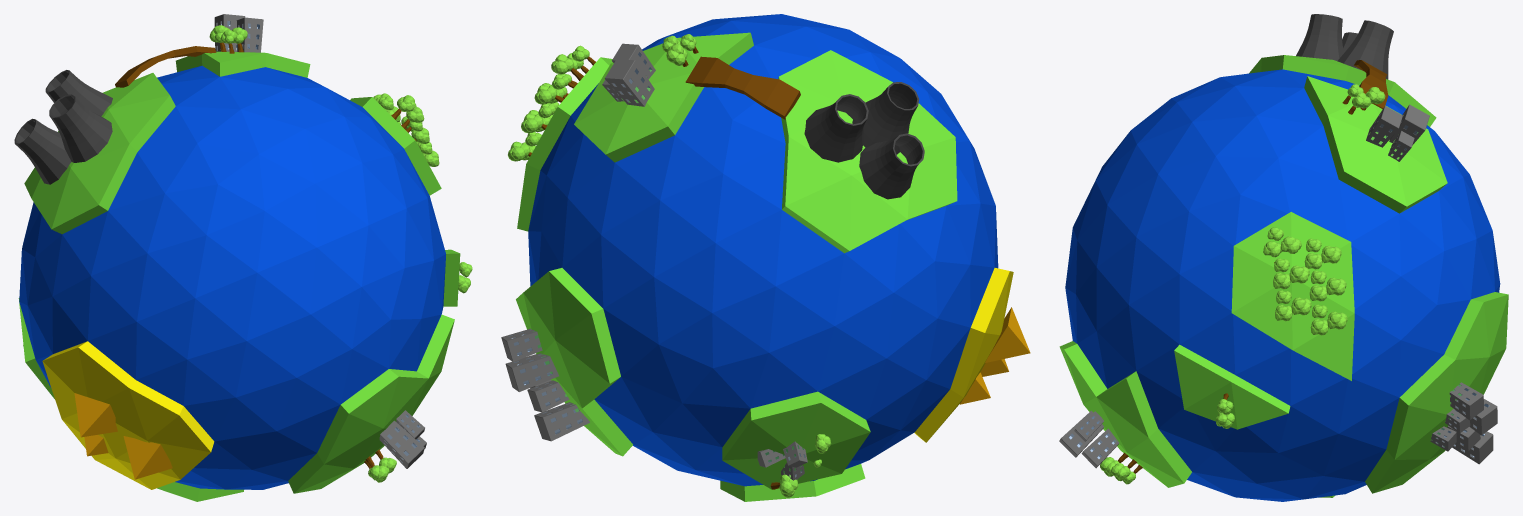
File: Earth.glb
The picture shows the model from 3 angles, left to right: view 1: azimuth 30°, elevation 25°; view 2: azimuth 150°, elevation 25°; view 3: azimuth 270°, elevation 25°; orthographic projection. The views are drawn at different scales.
Visible parts, largest first — view 1: Icosphere; view 2: Icosphere; view 3: Icosphere.
Part boxes in pixels (left/top/right/bottom): Icosphere: left=14, top=14, right=472, bottom=501; Icosphere: left=501, top=14, right=1030, bottom=501; Icosphere: left=1059, top=14, right=1508, bottom=501.
Size of the model in its own units: 6.54 by 6.45 by 6.16.
